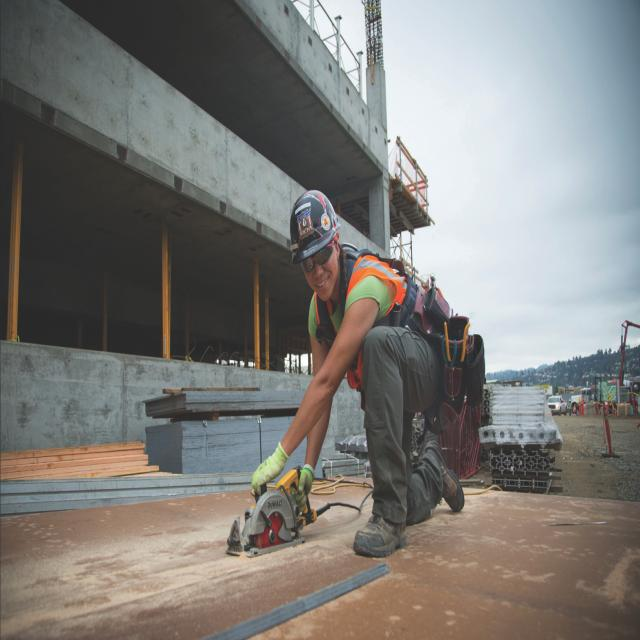Boots: (349, 492, 416, 570), (420, 430, 467, 521)
Gloves: (244, 431, 293, 494), (294, 467, 321, 511)
Hard Hat: (286, 182, 341, 265)
Reflective Vest: (303, 248, 412, 394)
Safety Glasses: (300, 232, 342, 274)
